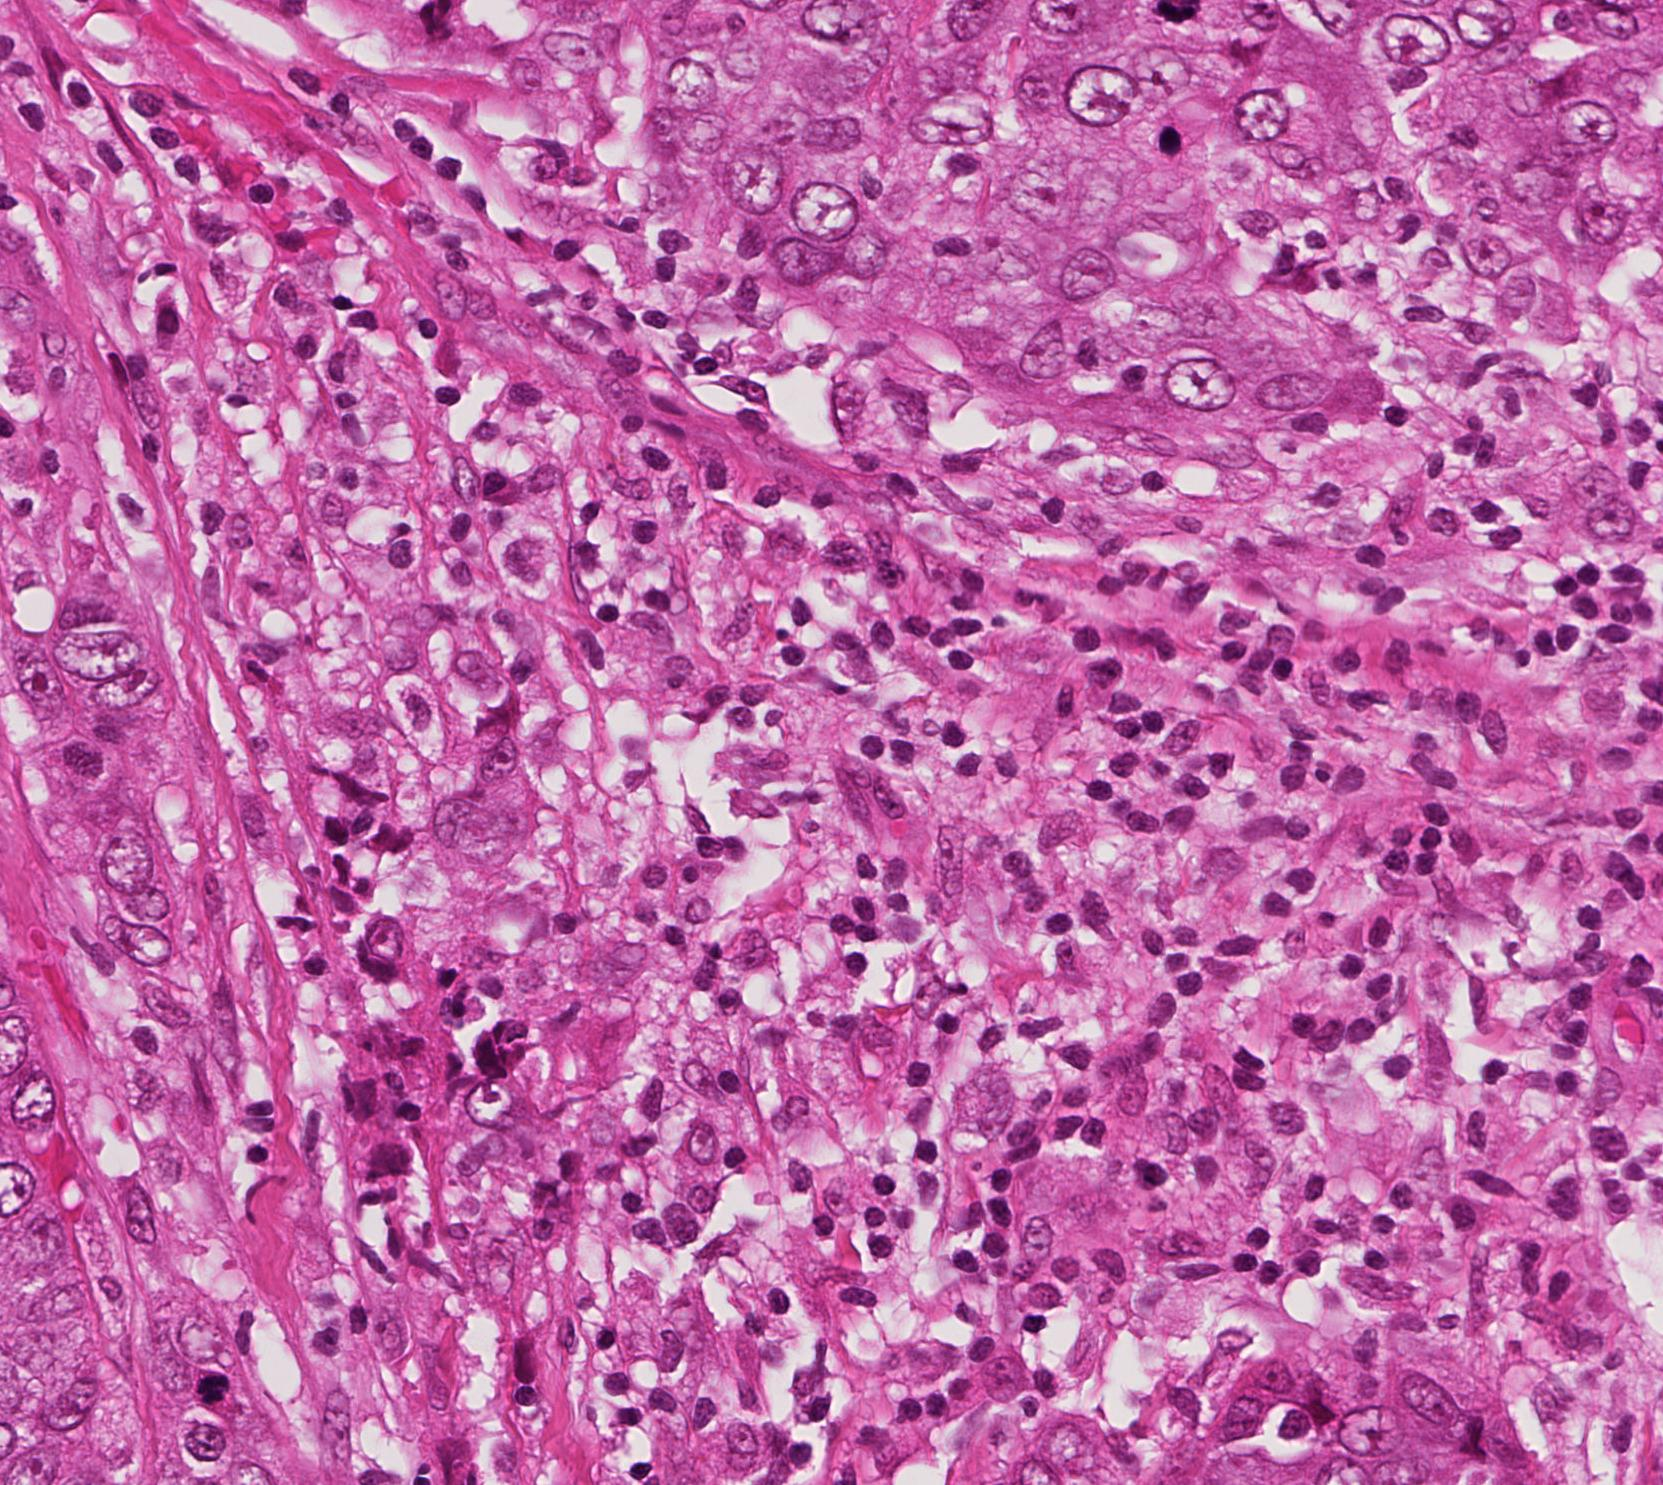mitosis: (1144, 0, 1204, 52)
